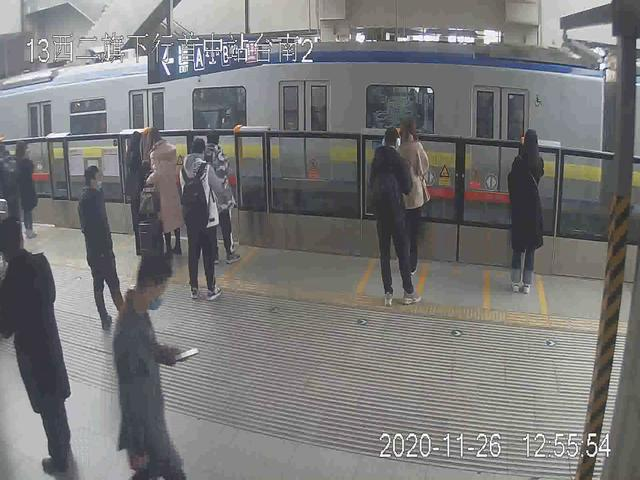person: (1, 218, 77, 475), (113, 256, 186, 480), (370, 129, 420, 308), (77, 165, 126, 329), (181, 138, 220, 296), (504, 130, 540, 292), (140, 127, 184, 253), (397, 117, 430, 274), (205, 133, 242, 260), (11, 141, 44, 237), (123, 133, 149, 253)
